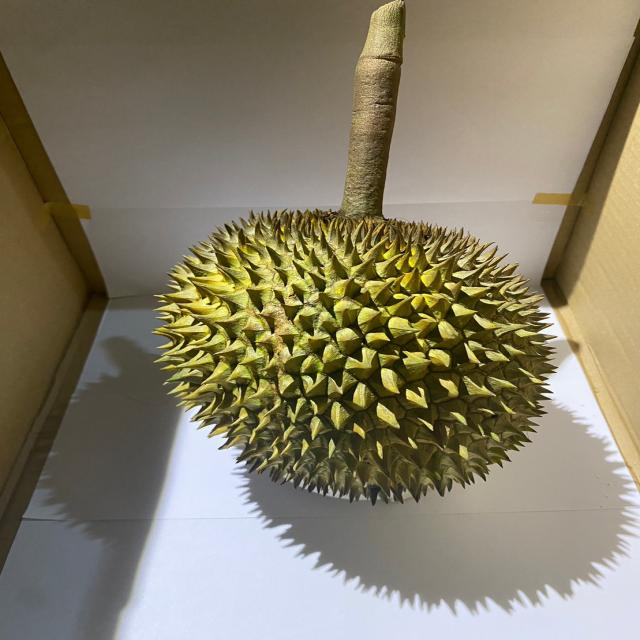immature: (152, 207, 560, 506)
